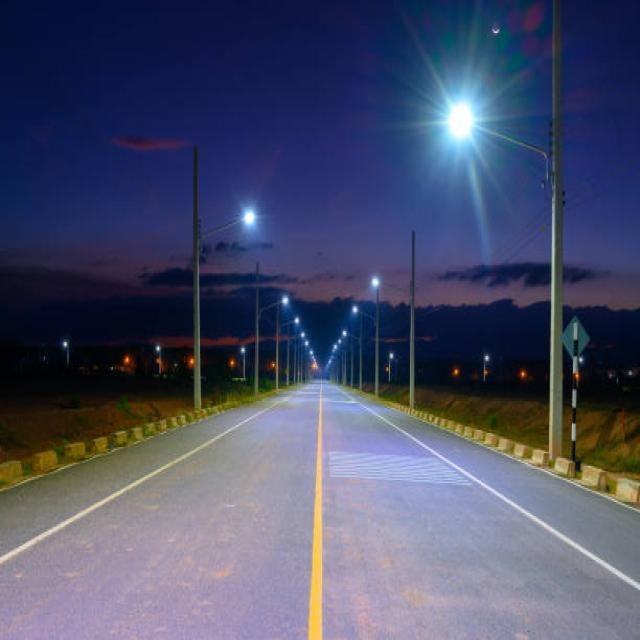acesa: (402, 44, 536, 190), (222, 194, 268, 237)
